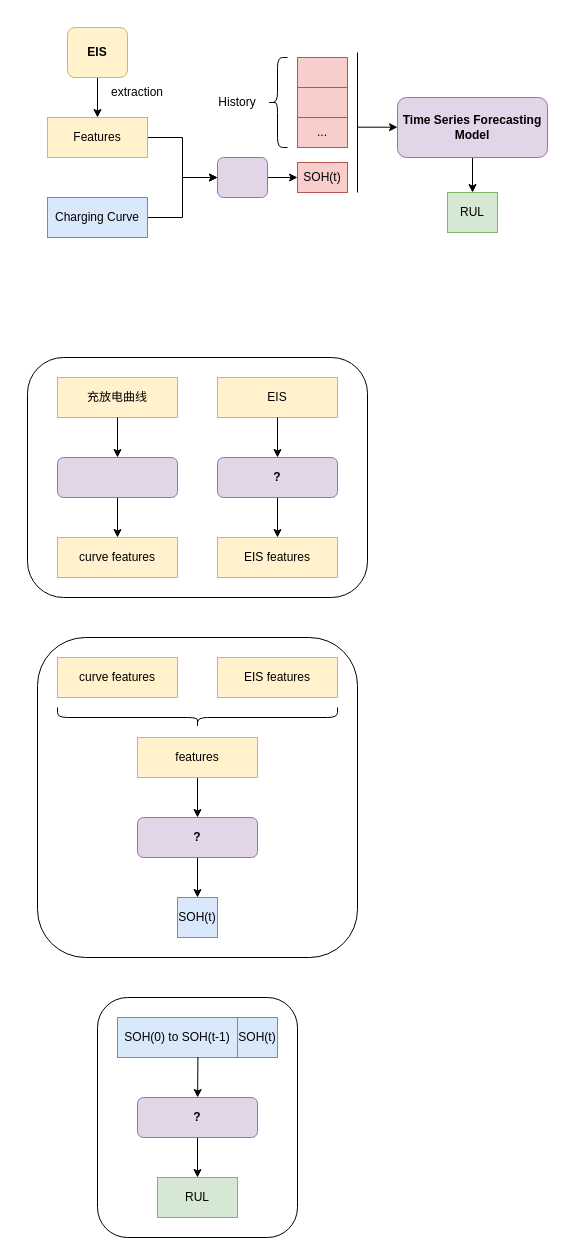
The diagram is 584 pixels wide and 1255 high, and some of its shapes have lost their labels. The shapes that lost their labels are listed below. From the top down, each one's box as (x1, y1, x2, y2) in pixels, then its label:
(296, 56, 348, 88): SOH(0)
(296, 86, 348, 118): SOH(1)
(216, 156, 268, 198): DNN
(56, 456, 178, 498): CNN1d
